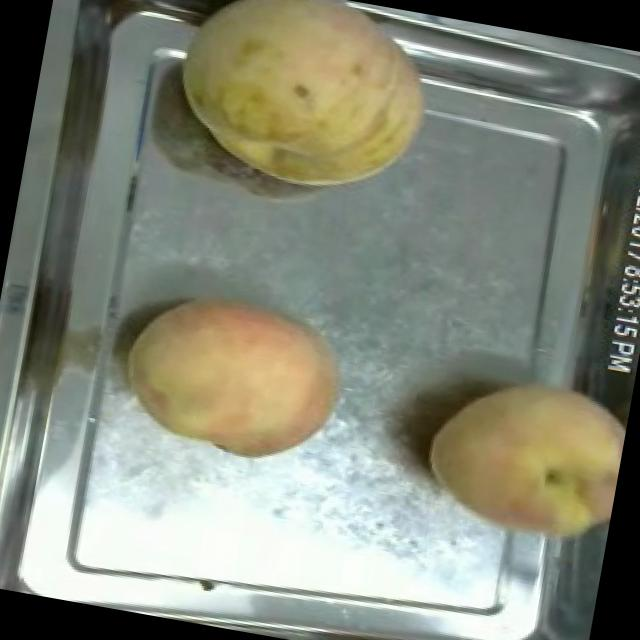Fruit: (149, 0, 450, 217), (105, 270, 362, 482), (408, 353, 634, 561)
